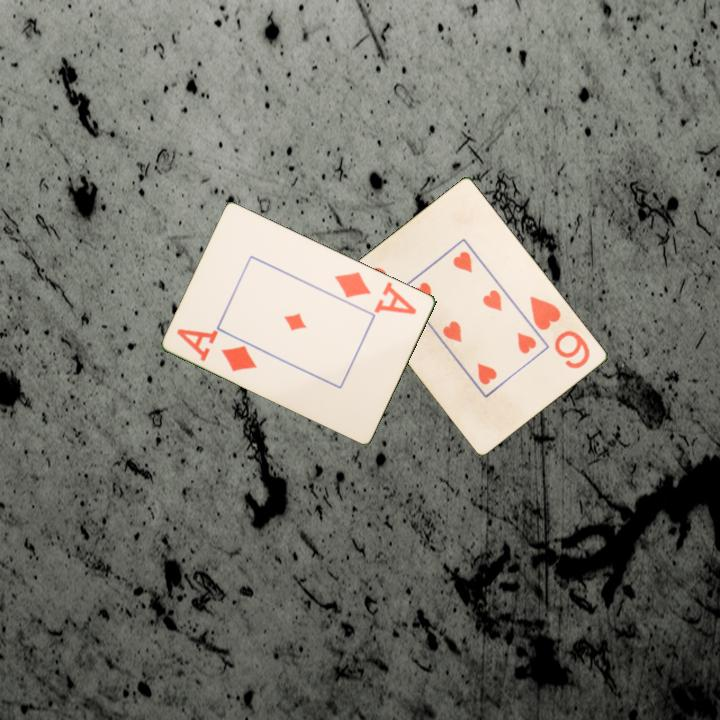6h: (526, 292, 593, 372)
Ad: (331, 268, 420, 318), (173, 325, 261, 375)
